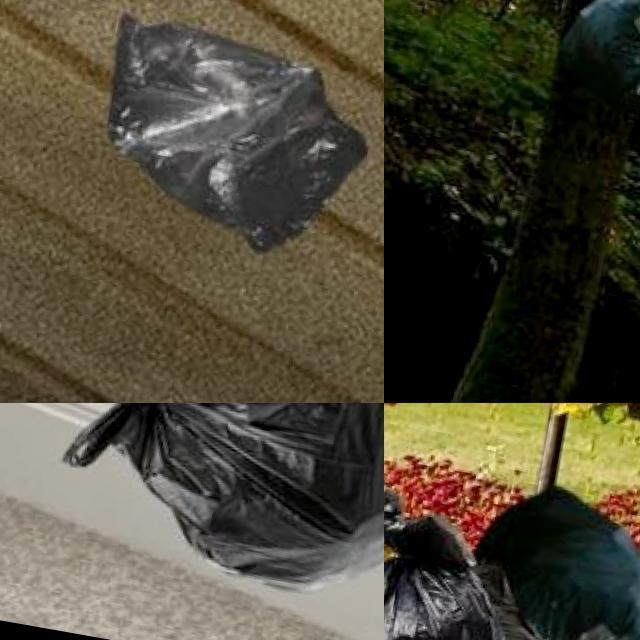waste: (96, 10, 384, 257), (52, 403, 384, 615), (384, 551, 640, 640), (384, 500, 537, 640), (557, 0, 640, 109)
